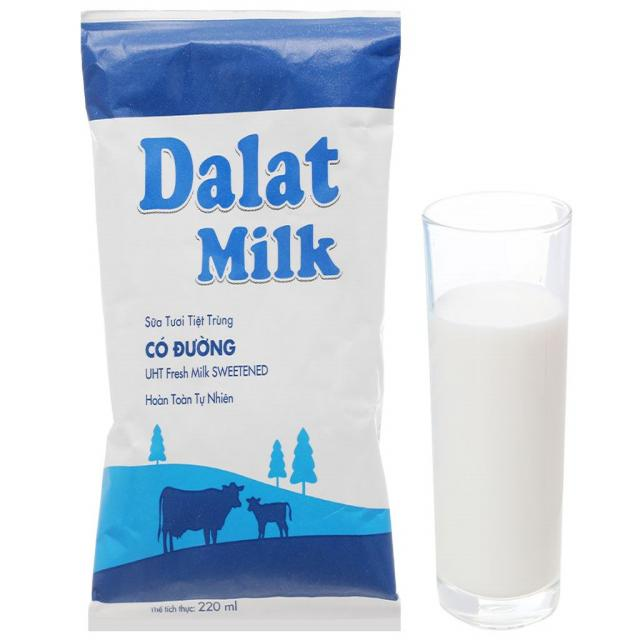Milk carton/jug: (73, 6, 410, 636), (420, 278, 570, 607)
